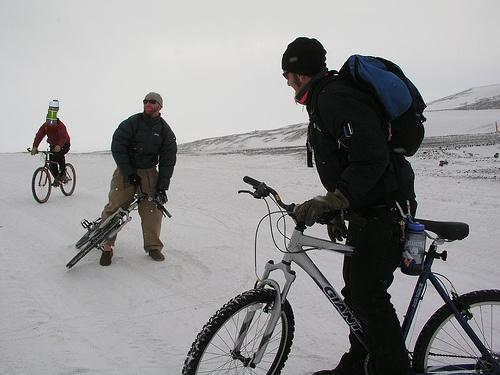tampered: (44, 101, 59, 163)
